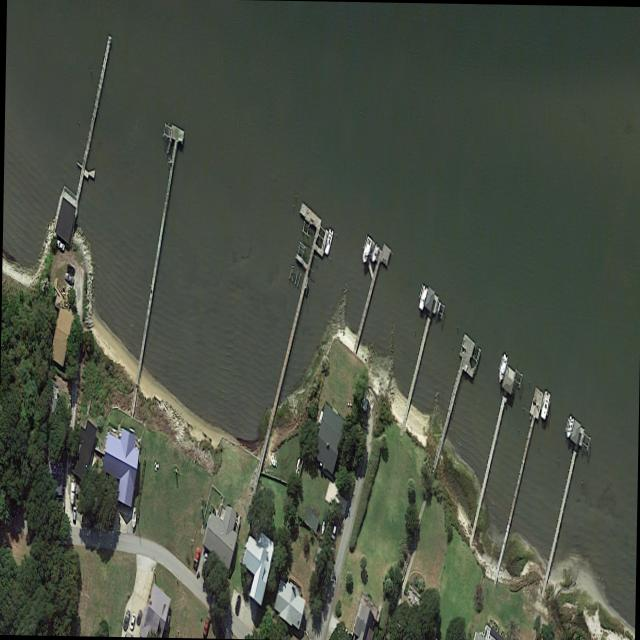ship: (495, 350, 508, 383), (359, 232, 372, 263), (539, 388, 550, 419), (322, 225, 333, 256), (417, 282, 427, 310), (564, 412, 574, 438), (369, 240, 378, 263), (130, 504, 136, 527), (69, 478, 74, 503), (320, 518, 324, 533), (269, 454, 274, 465)
small-vehicle: (192, 544, 200, 566), (63, 269, 73, 283), (122, 609, 129, 628), (202, 616, 208, 635), (201, 551, 207, 569), (128, 611, 134, 629), (135, 608, 141, 625), (234, 595, 240, 611), (55, 238, 63, 250), (66, 262, 74, 273), (71, 504, 75, 519)
